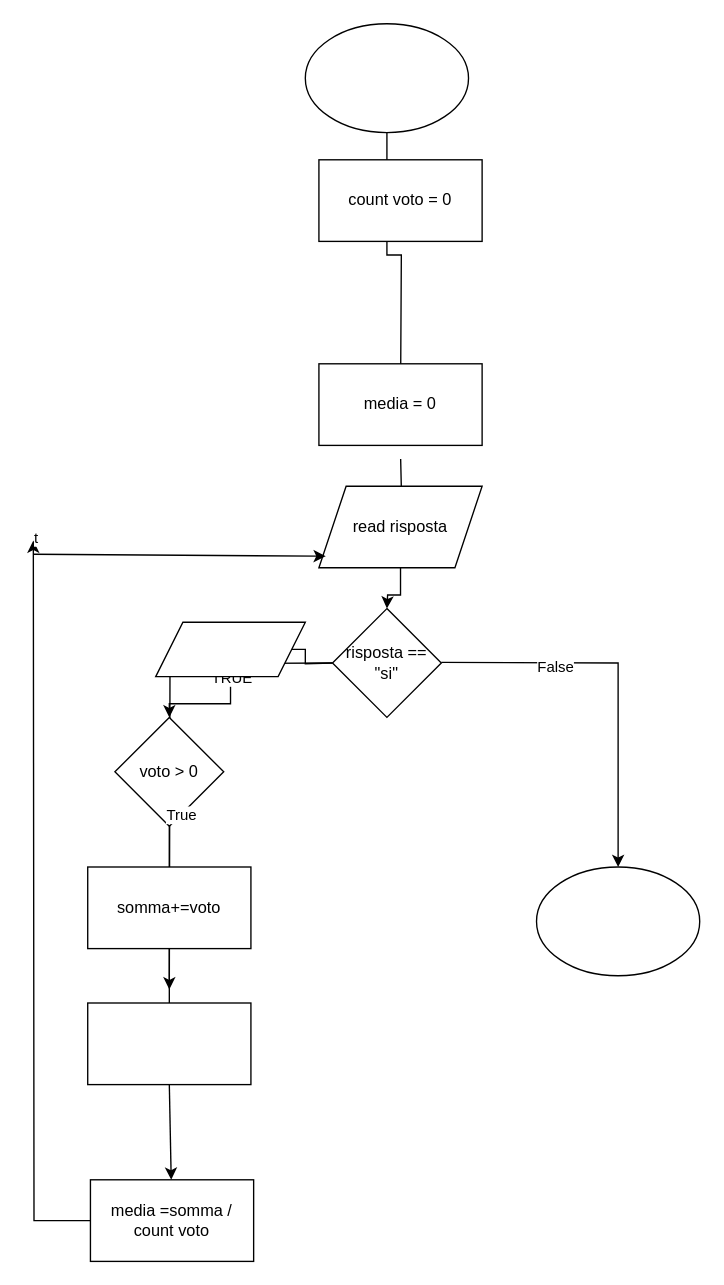
Some shapes in this 724 by 1285 pixel diagram are drawn without their labels. The centre of each missing label's shape, as x and y in pixels:
"count voto += 1" belongs at [168,1043].
"END" belongs at [617,921].
"read voto" belongs at [229,649].
"START" belongs at [386,77].
